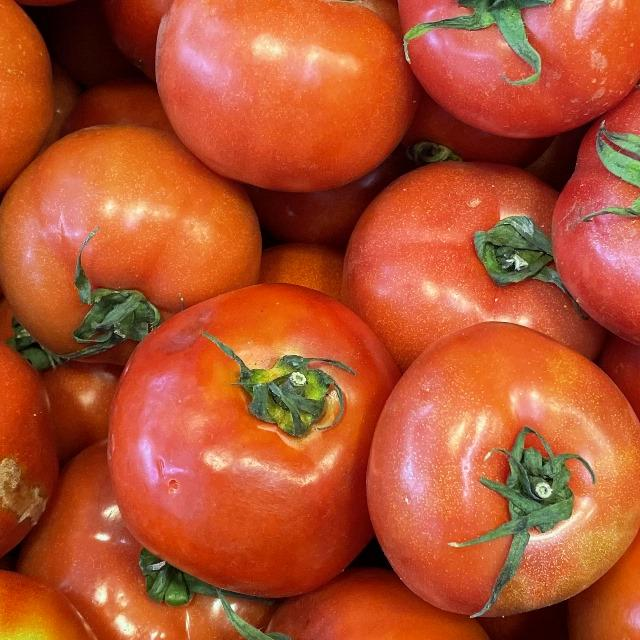tomato: (108, 265, 395, 582), (147, 0, 427, 195), (392, 0, 640, 145), (540, 40, 640, 360), (0, 292, 97, 587)
